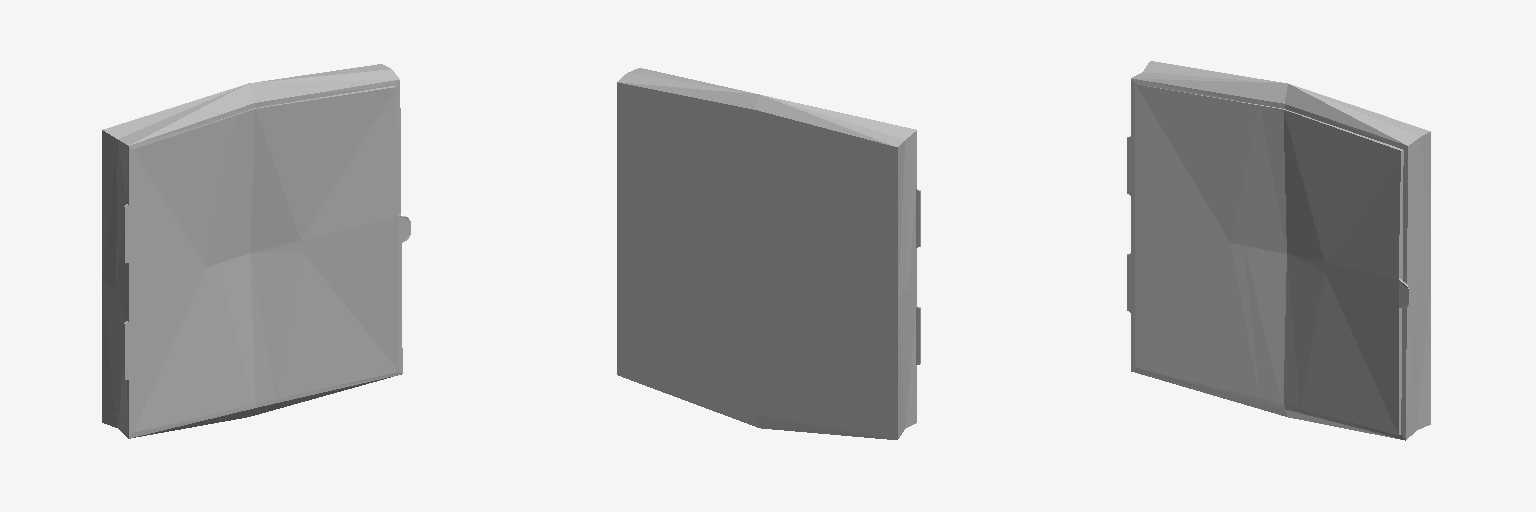
File: pizzabox.obj
The picture shows the model from 3 angles: view 1: azimuth 30°, elevation 25°; view 2: azimuth 150°, elevation 25°; view 3: azimuth 330°, elevation 25°; orthographic projection.
Parts seen in each view (by area): view 1: pizzabox; view 2: pizzabox; view 3: pizzabox.
Part boxes in pixels (left/top/right/bottom): pizzabox: left=102, top=64, right=410, bottom=438; pizzabox: left=617, top=68, right=920, bottom=439; pizzabox: left=1127, top=61, right=1430, bottom=440.
Bounding box in the file's own units: 17.76 × 19.95 × 2.77.